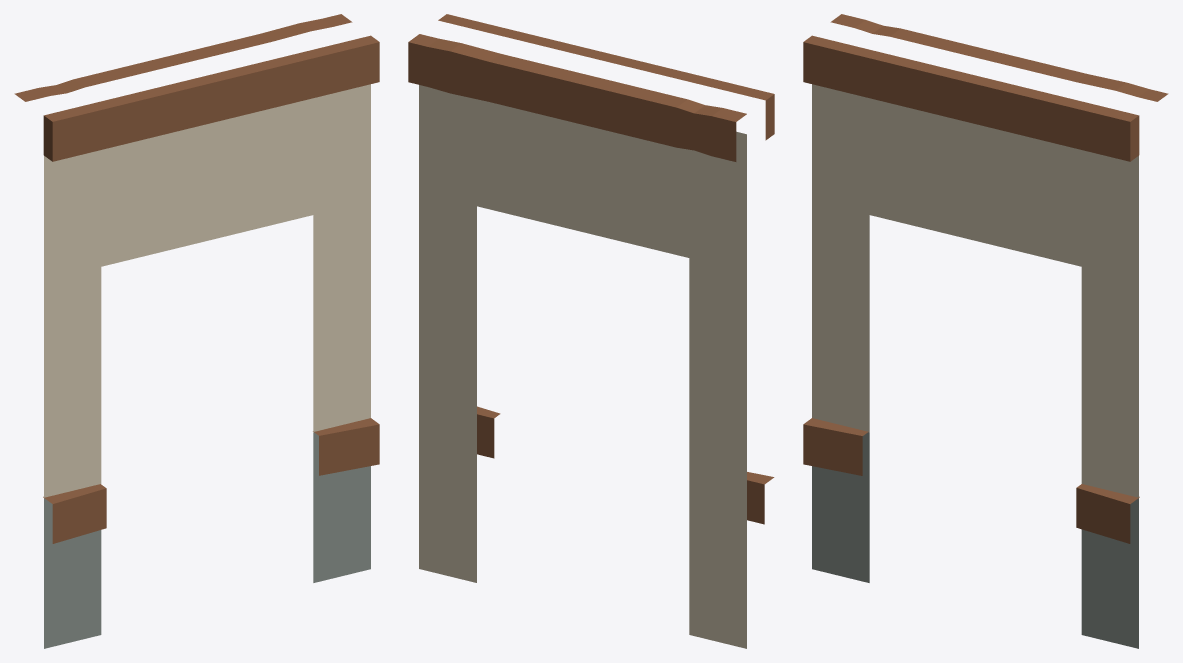
The model's file is Wall_Plaster_Door_Flat.glb.
3 views of the same model, side by side, from view 1: azimuth 30°, elevation 25°; view 2: azimuth 150°, elevation 25°; view 3: azimuth 330°, elevation 25° (orthographic).
Parts seen in each view (by area): view 1: Wall_Plaster_Door_Flat; view 2: Wall_Plaster_Door_Flat; view 3: Wall_Plaster_Door_Flat.
Boxes of the visible parts, x1=… form: Wall_Plaster_Door_Flat: x1=14, y1=14, x2=379, y2=648; Wall_Plaster_Door_Flat: x1=408, y1=14, x2=774, y2=648; Wall_Plaster_Door_Flat: x1=803, y1=14, x2=1168, y2=648.
Bounding box in the file's own units: 2 × 3.12 × 0.4065.
